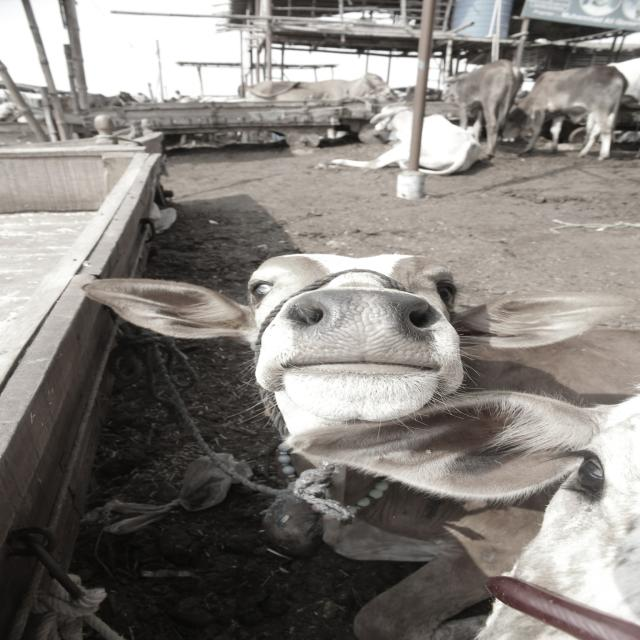muzzles: (275, 286, 456, 381)
